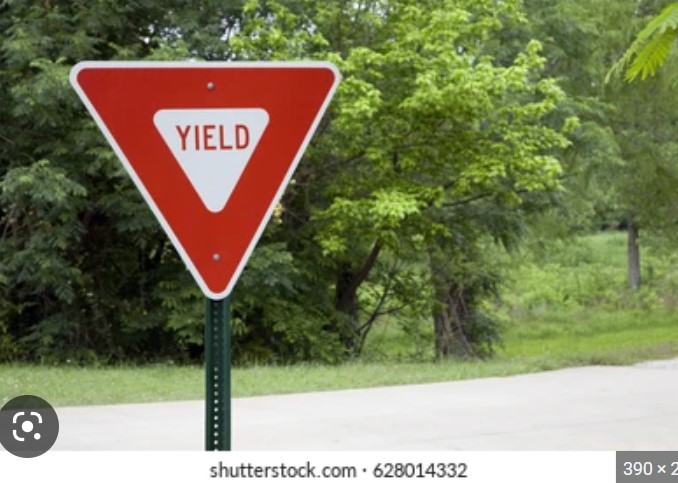Yeild: (66, 57, 344, 303)
